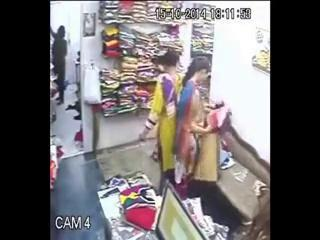shoplifting: (182, 54, 232, 188)
